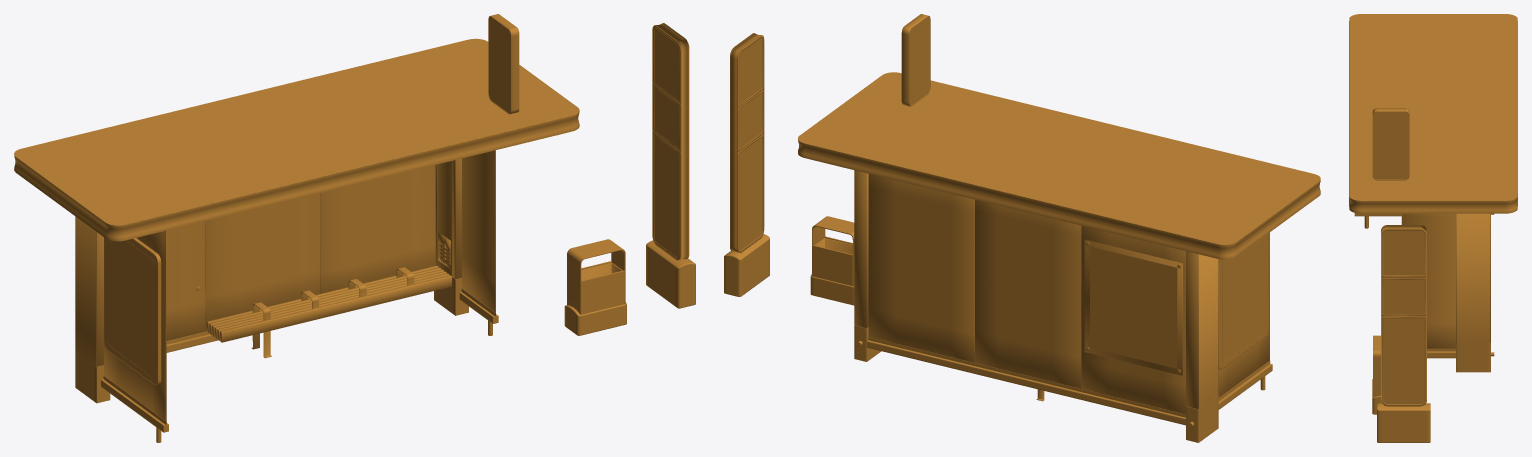
The model's file is busstop-model.glb.
3 views of the same model, side by side, from view 1: azimuth 30°, elevation 25°; view 2: azimuth 150°, elevation 25°; view 3: azimuth 270°, elevation 25° (orthographic). The views are drawn at different scales.
Parts seen in each view (by area): view 1: wire_149149149, wire_057008136, wire_145028177, wire_153228214, wire_228153184, wire_225198087, wire_225143087, wire_140088225, wire_177148027, wire_028089177, wire_225087143; view 2: wire_149149149, wire_057008136, wire_227153153, wire_145028177, wire_153228214, wire_140088225, wire_225198087, wire_225143087, wire_177148027, wire_028089177, wire_225087143; view 3: wire_149149149, wire_145028177, wire_225198087, wire_057008136, wire_177148027, wire_225143087, wire_225087143, wire_140088225.
Part boxes in pixels (bbox=[...]): wire_149149149: bbox=[14, 14, 689, 314]; wire_057008136: bbox=[104, 150, 495, 420]; wire_145028177: bbox=[75, 150, 495, 421]; wire_153228214: bbox=[104, 237, 161, 385]; wire_228153184: bbox=[206, 265, 451, 342]; wire_225198087: bbox=[654, 28, 679, 257]; wire_225143087: bbox=[564, 240, 695, 335]; wire_140088225: bbox=[101, 232, 498, 432]; wire_177148027: bbox=[489, 16, 680, 260]; wire_028089177: bbox=[581, 261, 624, 314]; wire_225087143: bbox=[654, 87, 679, 148]; wire_149149149: bbox=[730, 14, 1320, 286]; wire_057008136: bbox=[868, 174, 1269, 414]; wire_227153153: bbox=[1084, 239, 1182, 375]; wire_145028177: bbox=[854, 170, 1269, 442]; wire_153228214: bbox=[1218, 233, 1268, 369]; wire_140088225: bbox=[867, 337, 1272, 425]; wire_225198087: bbox=[739, 38, 762, 250]; wire_225143087: bbox=[724, 234, 854, 305]; wire_177148027: bbox=[738, 16, 929, 252]; wire_028089177: bbox=[812, 236, 852, 285]; wire_225087143: bbox=[739, 93, 762, 148]; wire_149149149: bbox=[1349, 14, 1517, 406]; wire_145028177: bbox=[1401, 213, 1490, 372]; wire_225198087: bbox=[1383, 230, 1424, 403]; wire_057008136: bbox=[1402, 213, 1455, 348]; wire_177148027: bbox=[1373, 112, 1426, 405]; wire_225143087: bbox=[1372, 379, 1430, 442]; wire_225087143: bbox=[1383, 279, 1424, 314]; wire_140088225: bbox=[1354, 213, 1455, 358].
Bounding box in the file's own units: 346 × 177 × 104.
